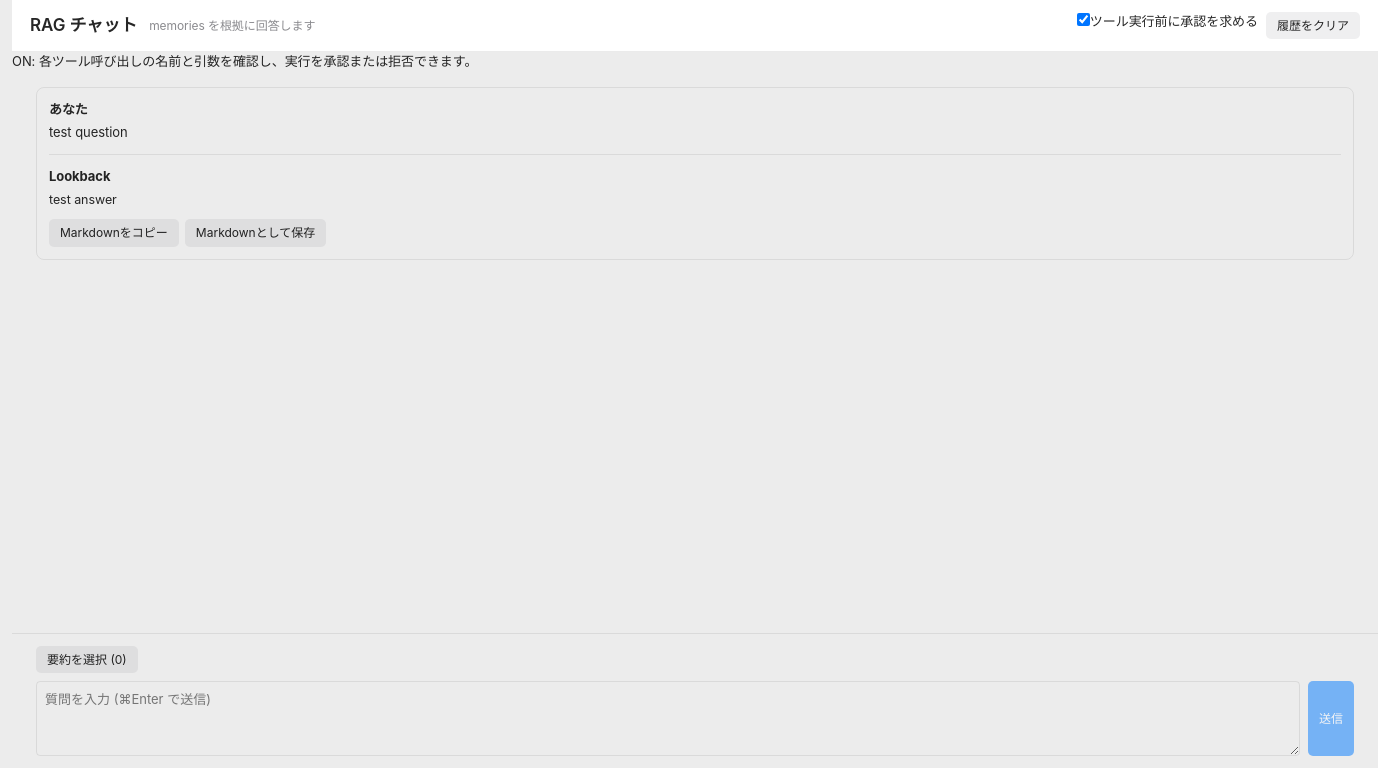
Test: Chat selected memory display › reports success after saving Markdown to the selected path
The image size is (1378, 768).
Click the button "Markdownとして保存". click: click(256, 233)
box: [185,219,326,246]
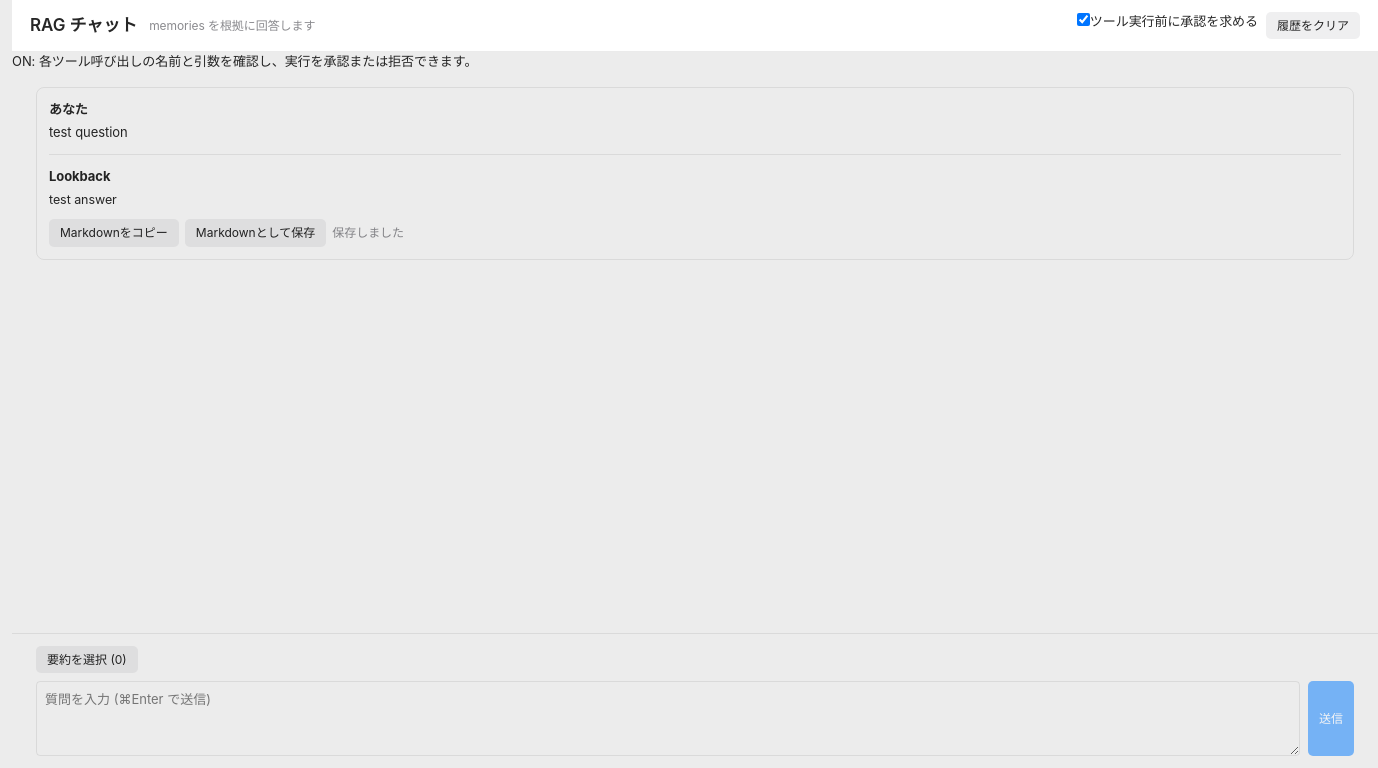
Expected: the message reads "保存しました", [332,225,404,240]
